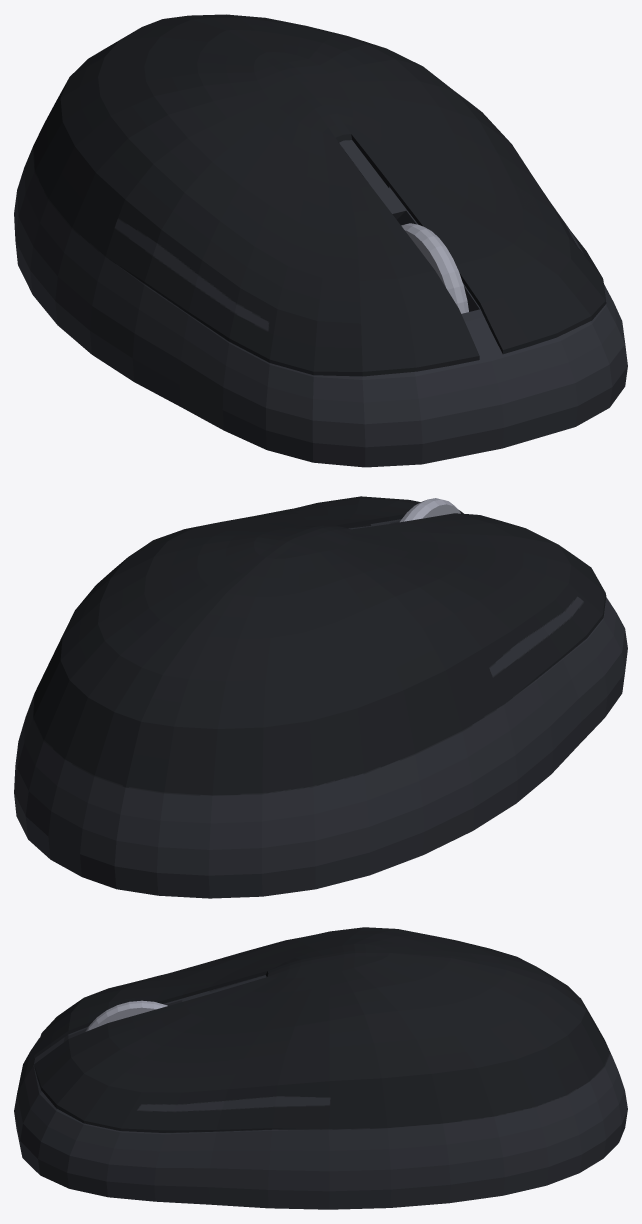
File: Mouse1.fbx
3 renders of one model, top to bottom at view 1: azimuth 30°, elevation 25°; view 2: azimuth 150°, elevation 25°; view 3: azimuth 270°, elevation 25°, orthographic. The views are drawn at different scales.
Parts seen in each view (by area): view 1: Mouse1; view 2: Mouse1; view 3: Mouse1.
Part boxes in pixels (bbox=[...]): Mouse1: bbox=[14, 14, 627, 467]; Mouse1: bbox=[14, 496, 627, 898]; Mouse1: bbox=[14, 927, 627, 1209].
Bounding box in the file's own units: 180 × 90.05 × 285.
